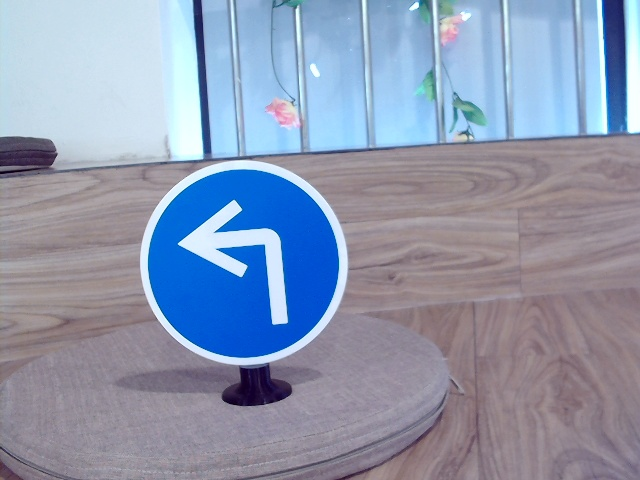turn_left: (177, 197, 293, 325)
